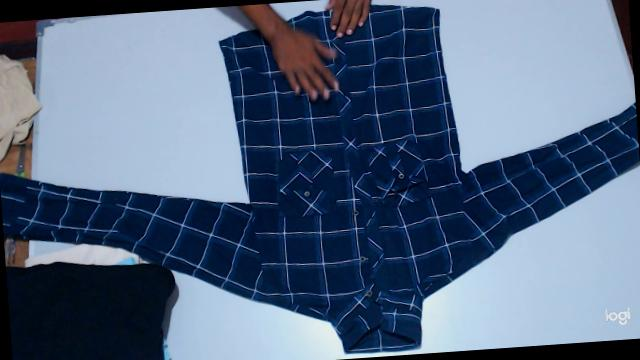new-garment: (0, 5, 639, 352)
